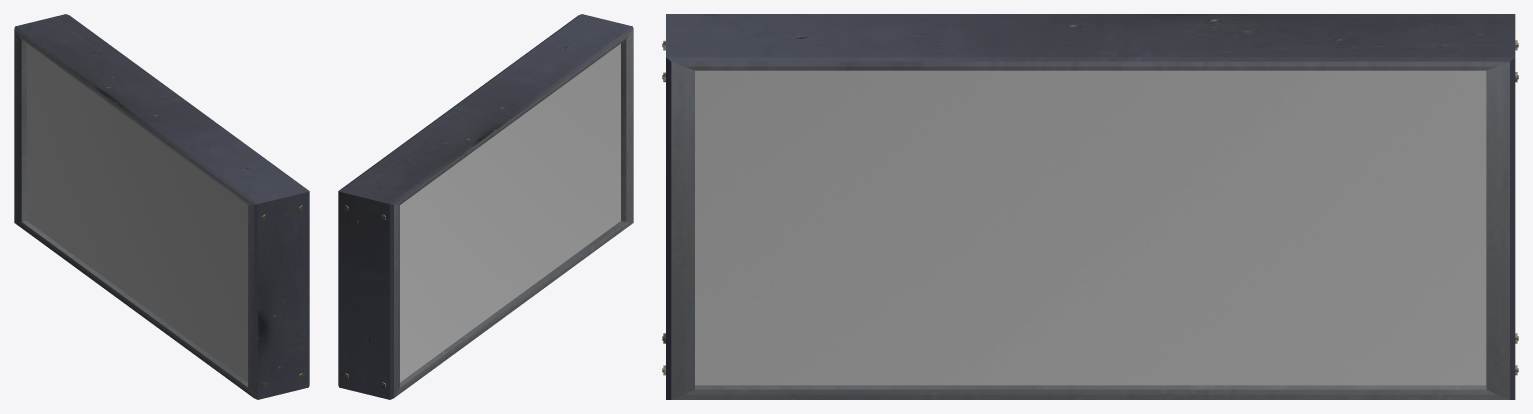
3 views of the same model, side by side, from view 1: azimuth 30°, elevation 25°; view 2: azimuth 150°, elevation 25°; view 3: azimuth 270°, elevation 25° (orthographic). The views are drawn at different scales.
Parts seen in each view (by area): view 1: theatresign; view 2: theatresign; view 3: theatresign.
Part boxes in pixels (x1,y1,x2,y2): theatresign: [14, 14, 309, 399]; theatresign: [338, 14, 633, 399]; theatresign: [662, 14, 1518, 399].
Size of the model in its own units: 35.73 by 120 by 271.
1 material, 1 textured.
